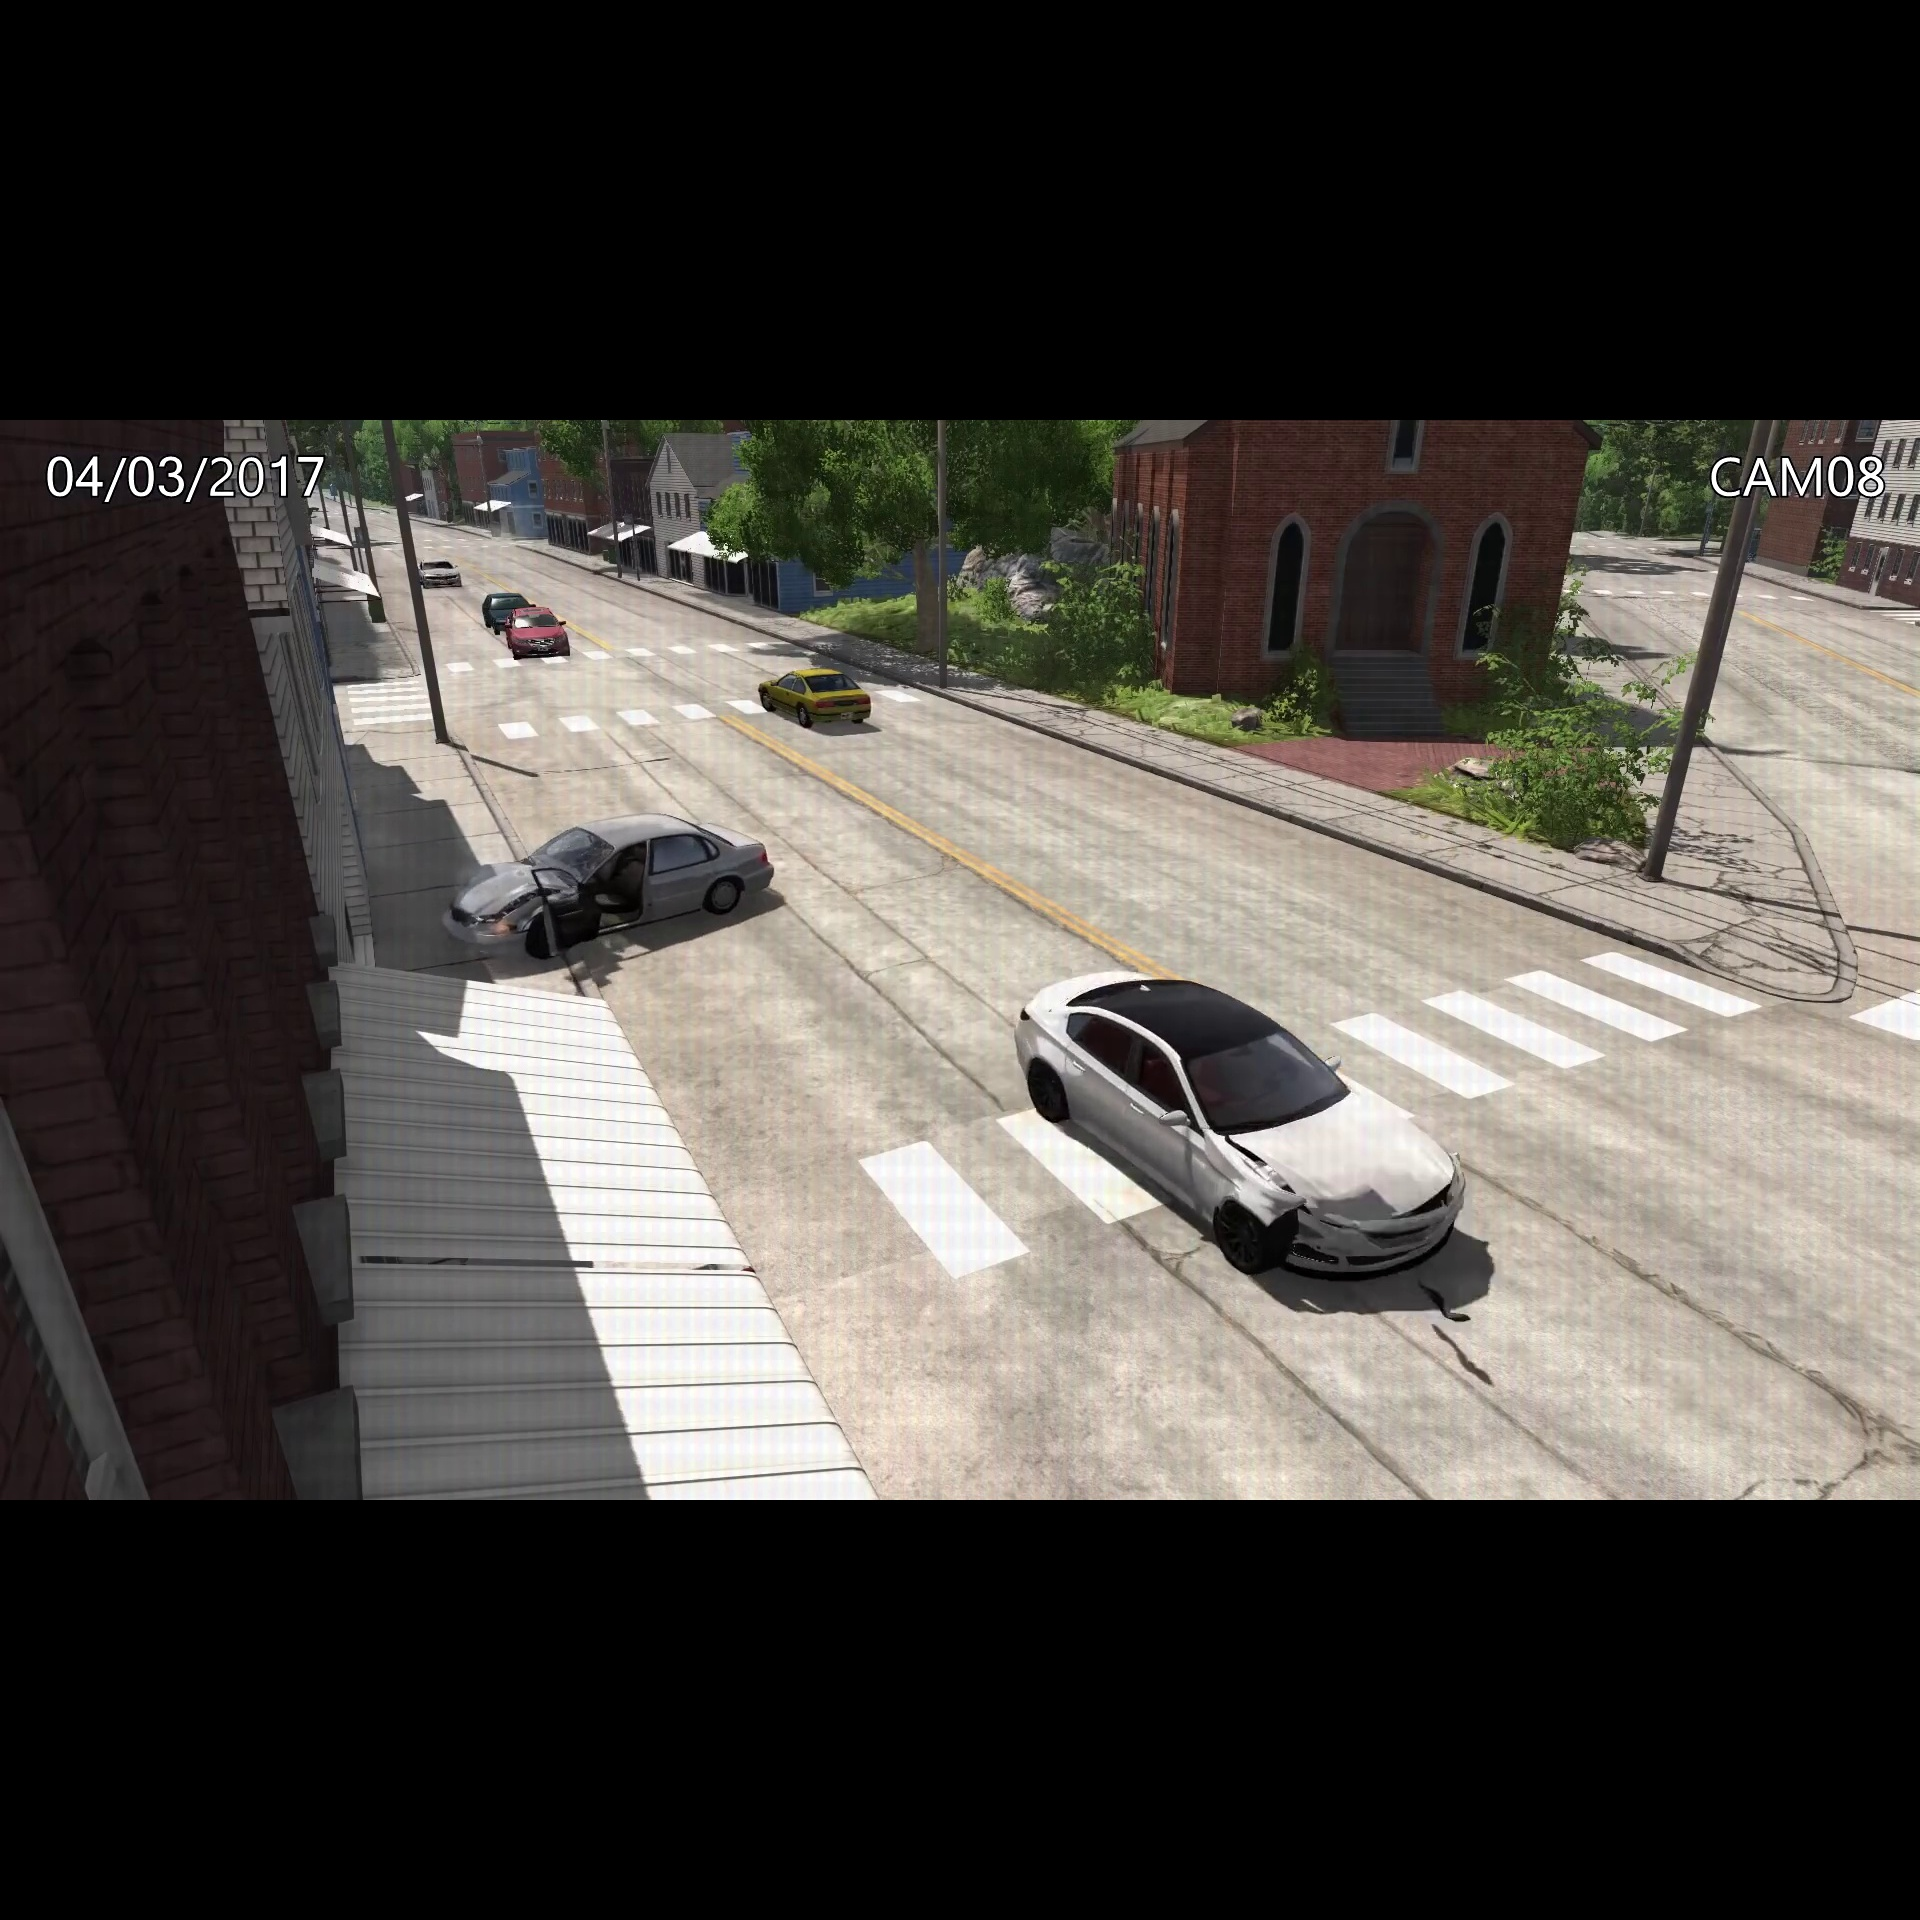vehicle: (1007, 955, 1475, 1289), (434, 805, 775, 976), (751, 663, 876, 733), (506, 605, 571, 665), (413, 550, 466, 593), (478, 585, 527, 629)
